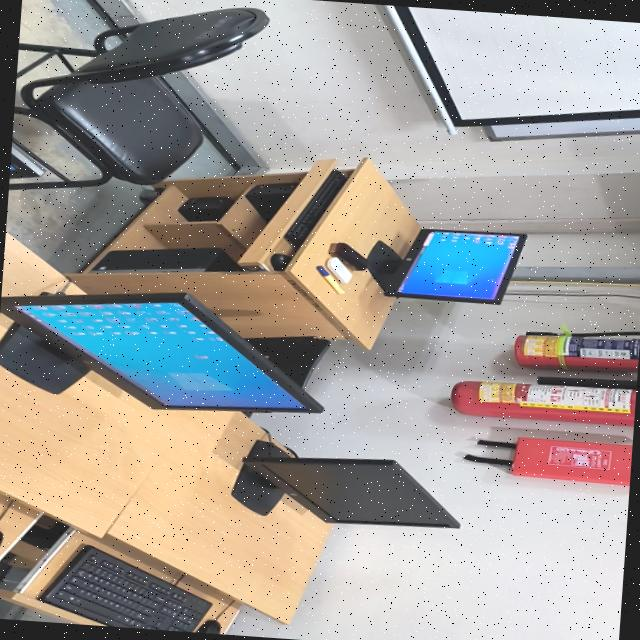Chair: (8, 6, 268, 188), (246, 335, 330, 387)
Cpu: (91, 246, 241, 271)
Fire Extinguisher: (451, 380, 636, 426), (515, 332, 640, 371)
Keyboard: (39, 544, 211, 632), (285, 168, 347, 247)
Monitor: (0, 291, 323, 411), (246, 455, 460, 527), (366, 227, 527, 303)
Mouse: (194, 618, 220, 634), (271, 252, 291, 269)
